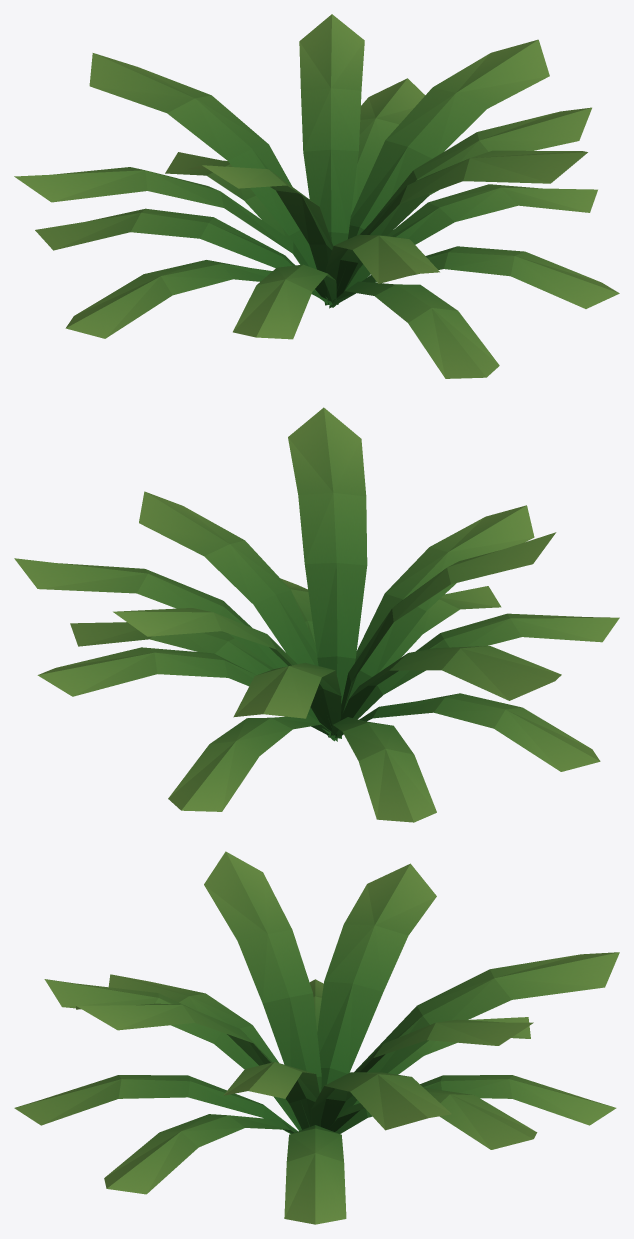
File: Plant.fbx
3 views of the same model, one above another, from view 1: azimuth 30°, elevation 25°; view 2: azimuth 150°, elevation 25°; view 3: azimuth 270°, elevation 25° (orthographic). The views are drawn at different scales.
Visible parts, largest first — view 1: polySurface170; view 2: polySurface170; view 3: polySurface170.
Boxes of the visible parts, x1,y1,x2,y2 form: polySurface170: (14, 14, 619, 378); polySurface170: (14, 407, 619, 822); polySurface170: (14, 851, 619, 1224).
Bounding box in the file's own units: 426 × 165 × 427.
